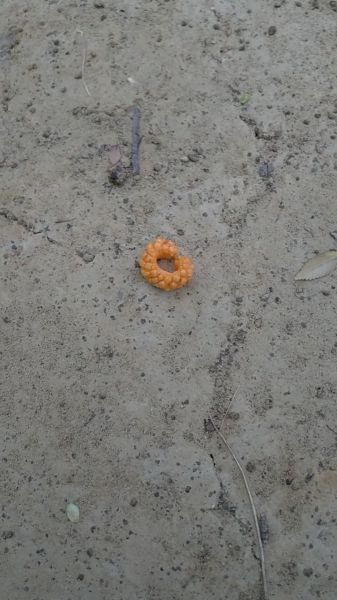eggs: (136, 237, 199, 294)
